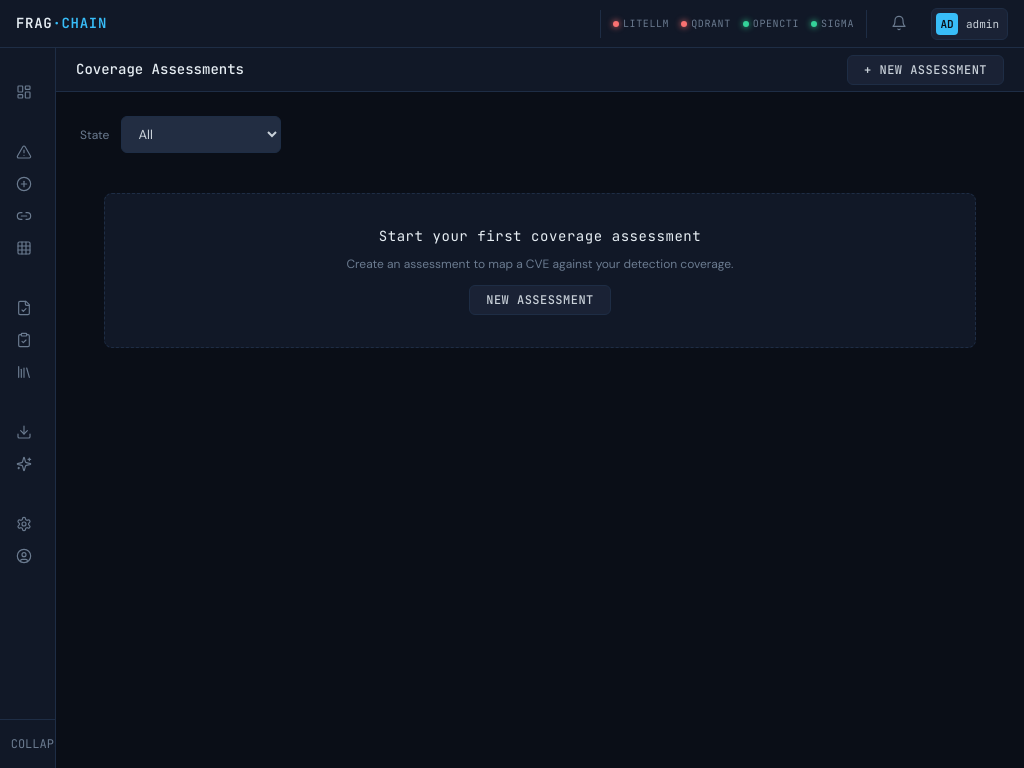
it: AssessmentsList › empty-state action opens the create modal instead of navigating
This screenshot has width=1024, height=768.
Expected: the text "Start your first coverage assessment" is shown, 379,227 -> 701,245
Click the button "New Assessment" at (540, 300), box 469,285 -> 611,315
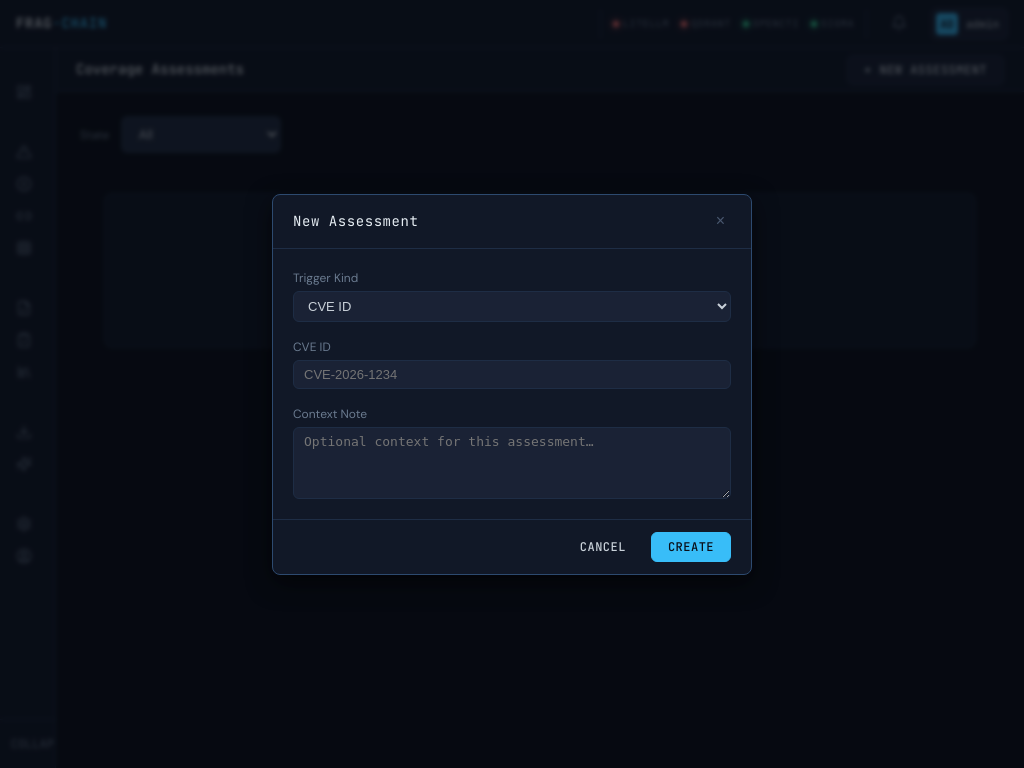
Expected: the dialog shows "New Assessment", 293,212 -> 418,230
